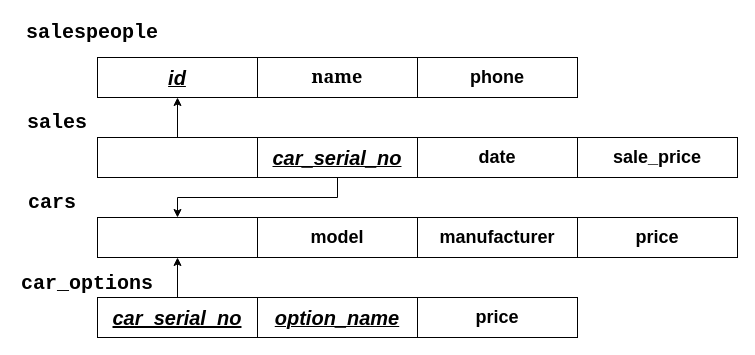
The diagram is 755 pixels wide and 355 high, and some of its shapes have lost their labels. Each missing label, with the box of its shape:
salesperson_id: (96, 136, 258, 178)
serial_no: (96, 216, 258, 258)
